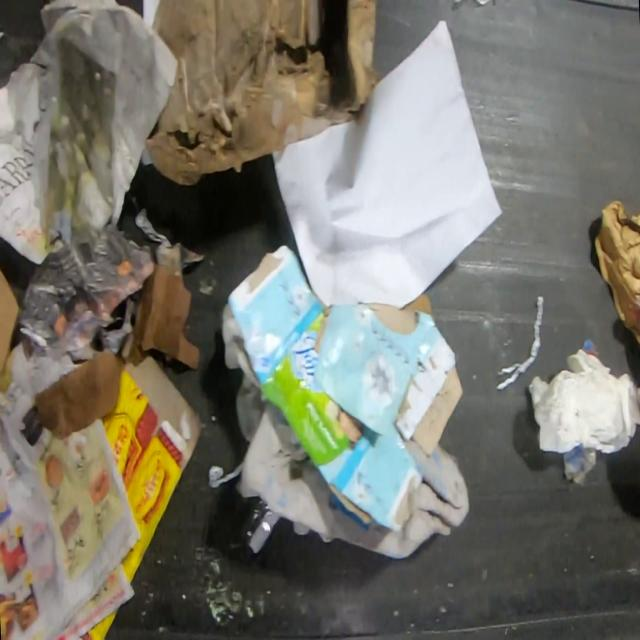cardboard: (225, 244, 464, 534), (145, 0, 380, 186), (105, 356, 202, 591), (0, 269, 21, 397)
